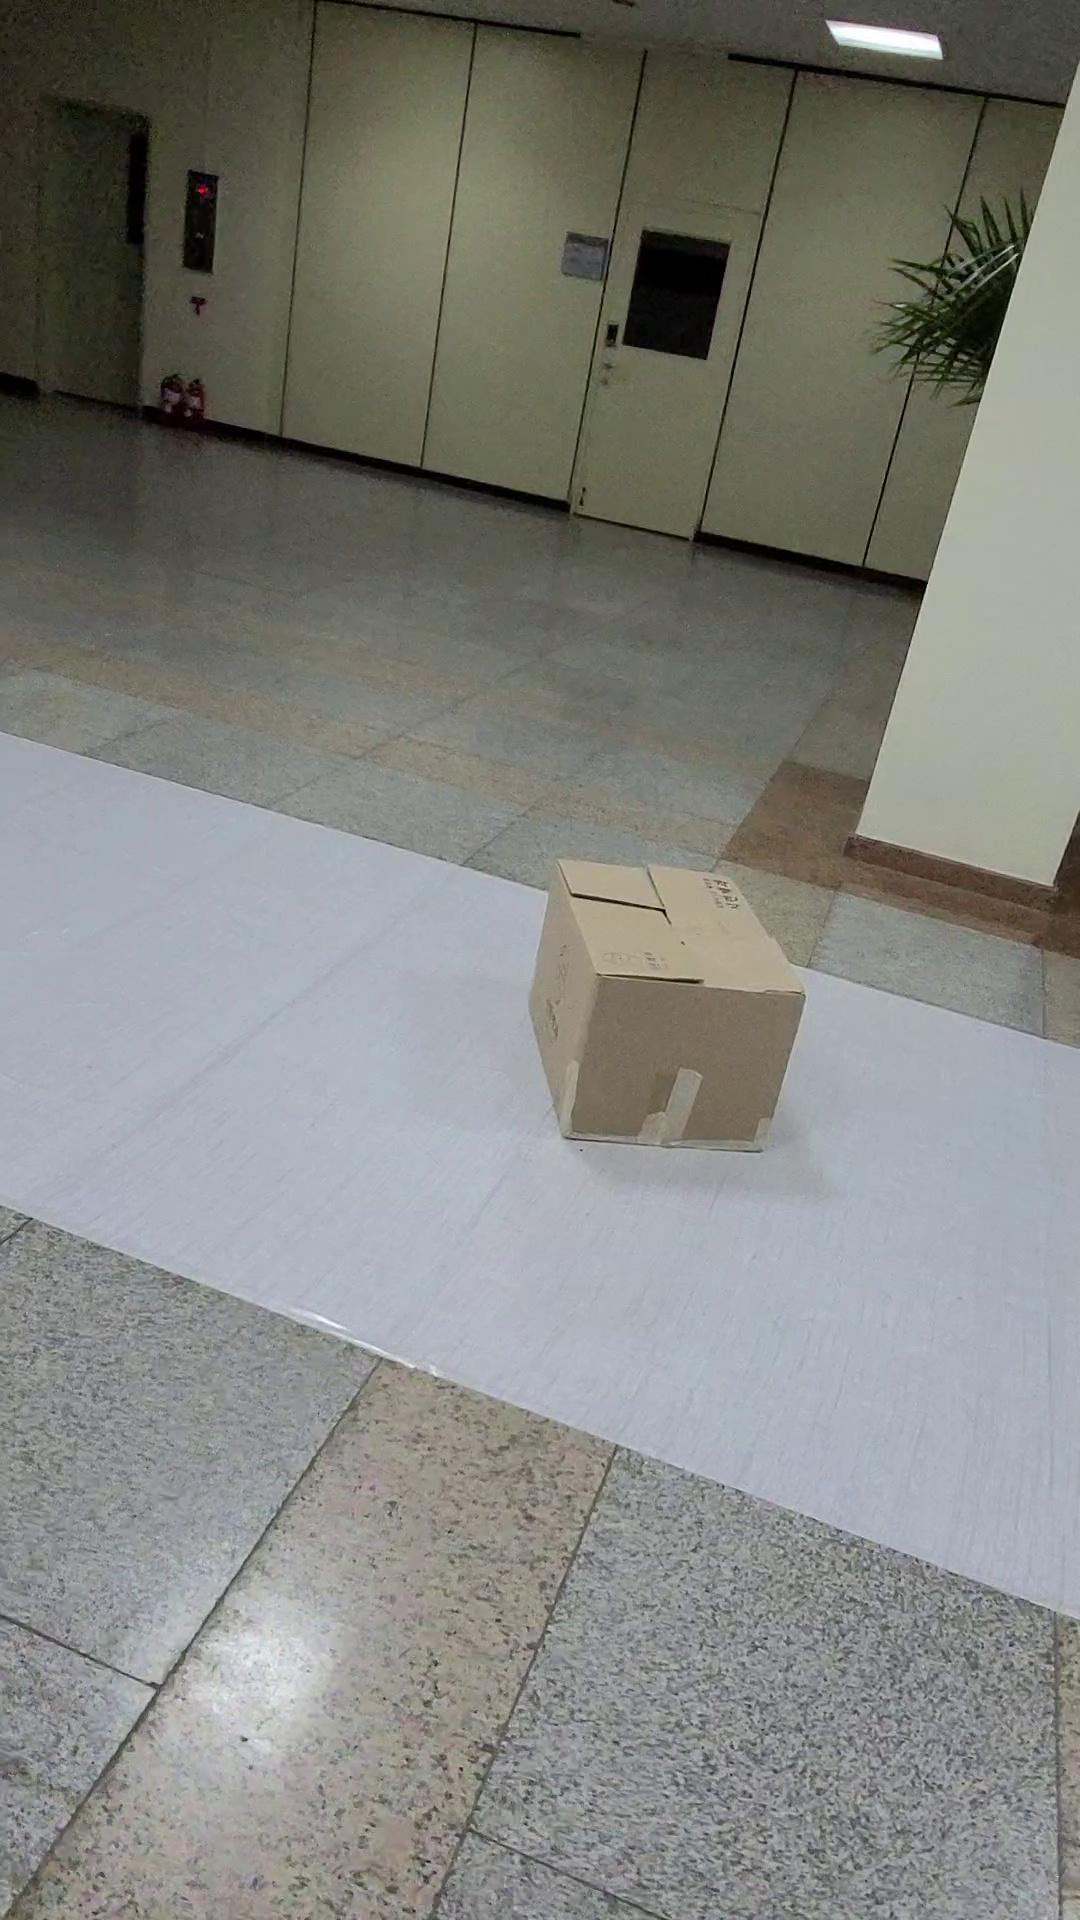Box: (521, 835, 818, 1187)
